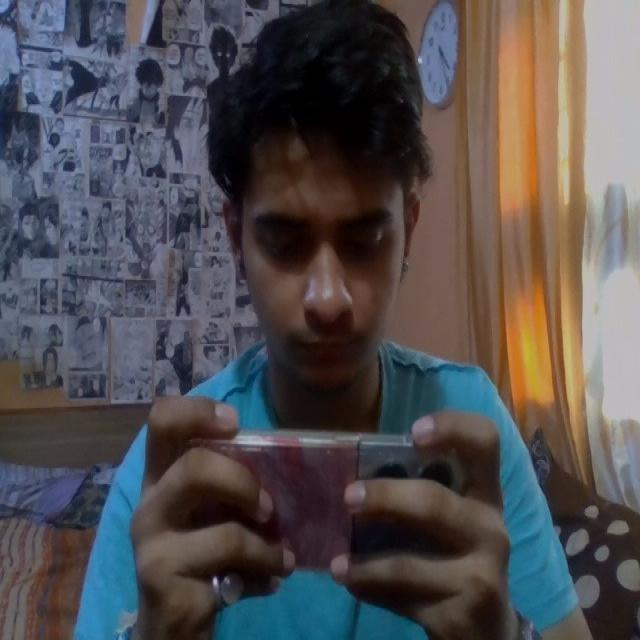phone: (182, 433, 486, 600)
using-phone: (73, 5, 590, 639)
